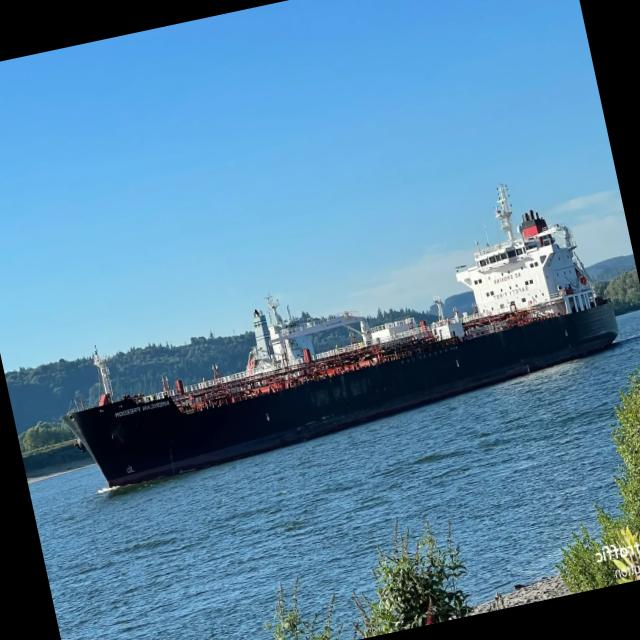Tanker: (65, 184, 617, 484)
